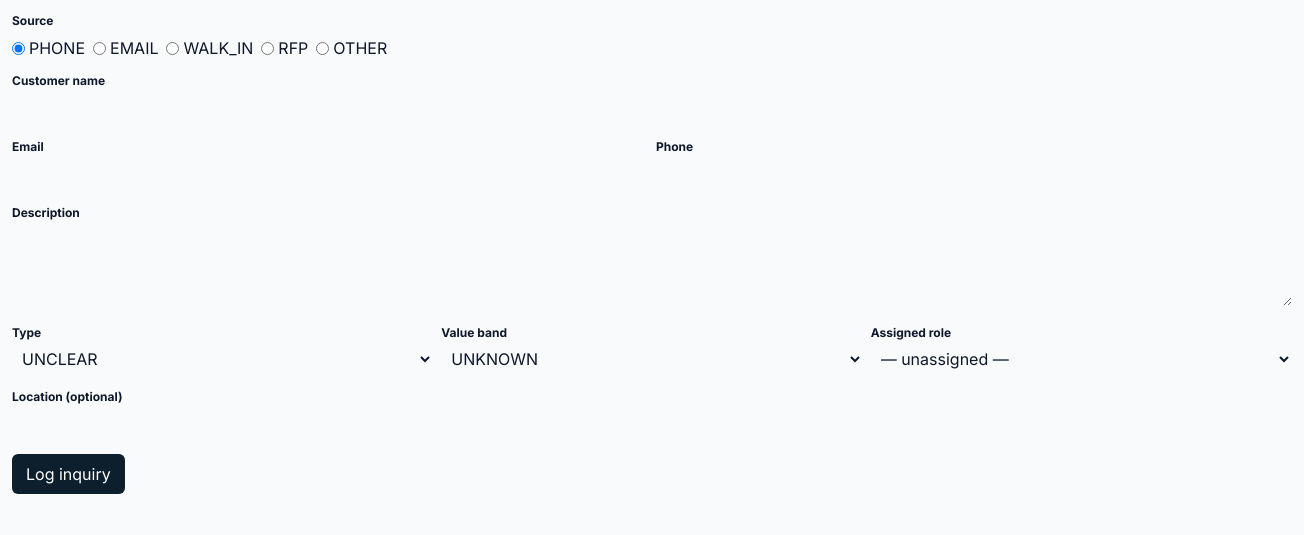
it: <InquiryQuickCaptureForm> › suggests GM for source=RFP
Click the radio button labelled "RFP" at [268, 48], box [261,42,274,54]
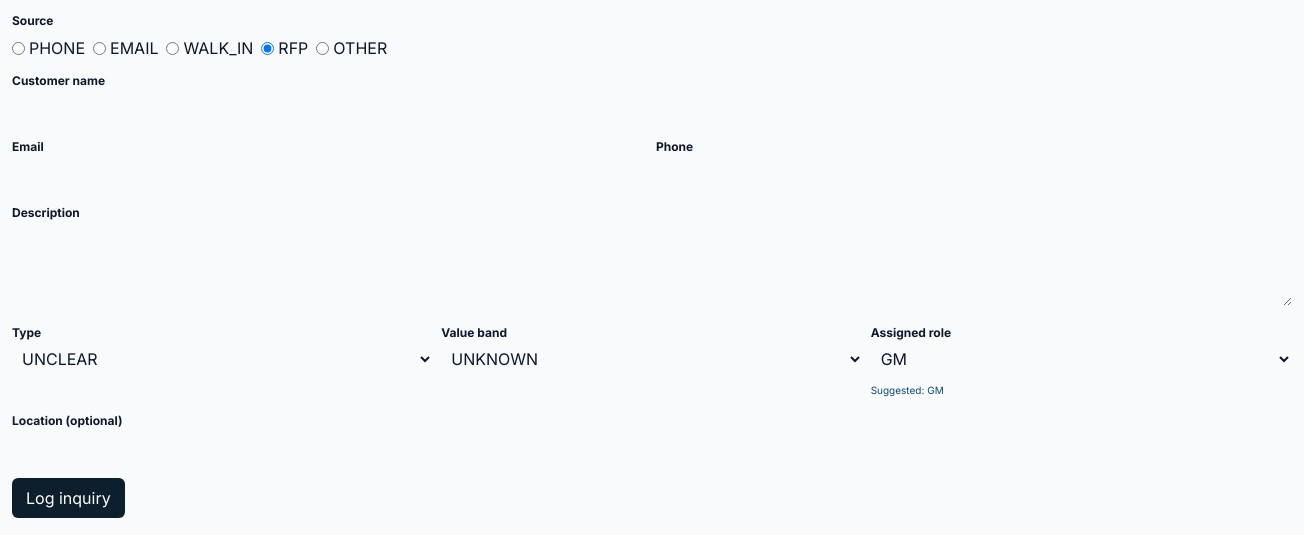
Check: the text with test id "routing-suggestion" shows "GM", box [927,384,944,396]
